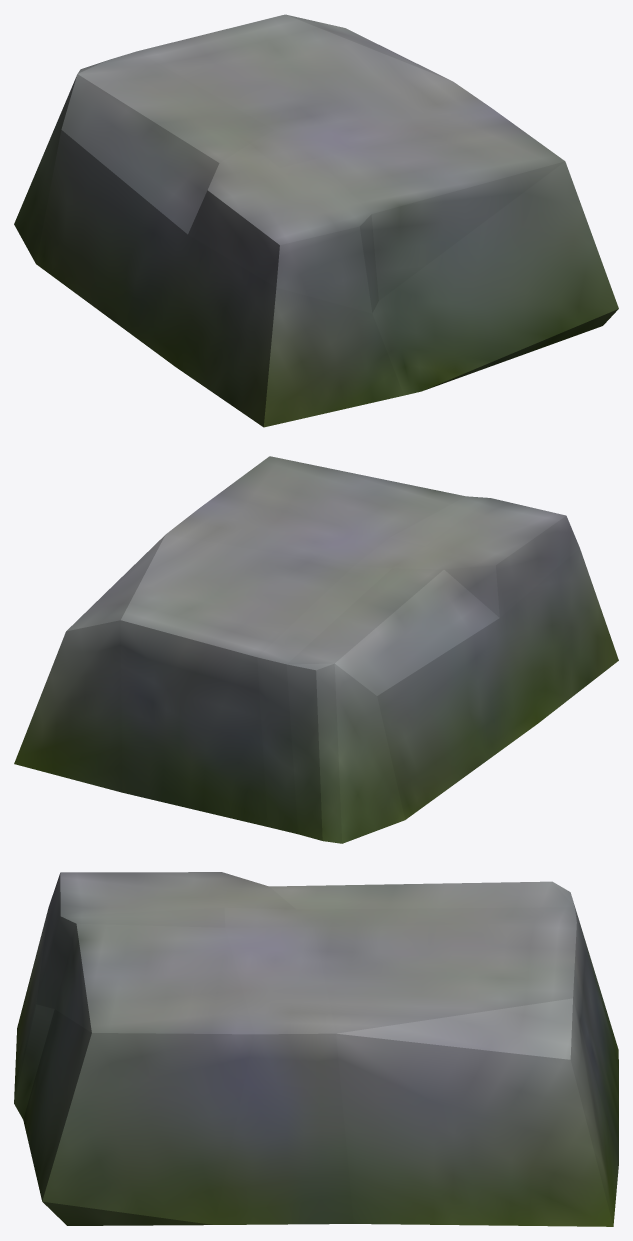
Rendered from pebble-4.glb.
3 views of the same model, one above another, from view 1: azimuth 30°, elevation 25°; view 2: azimuth 150°, elevation 25°; view 3: azimuth 270°, elevation 25° (orthographic). The views are drawn at different scales.
Parts seen in each view (by area): view 1: pebble-4; view 2: pebble-4; view 3: pebble-4.
Boxes of the visible parts, x1,y1,x2,y2 form: pebble-4: [14, 14, 618, 427]; pebble-4: [14, 456, 618, 843]; pebble-4: [14, 872, 618, 1226].
Bounding box in the file's own units: 0.352 × 0.1522 × 0.4504.
1 material, 1 textured.
